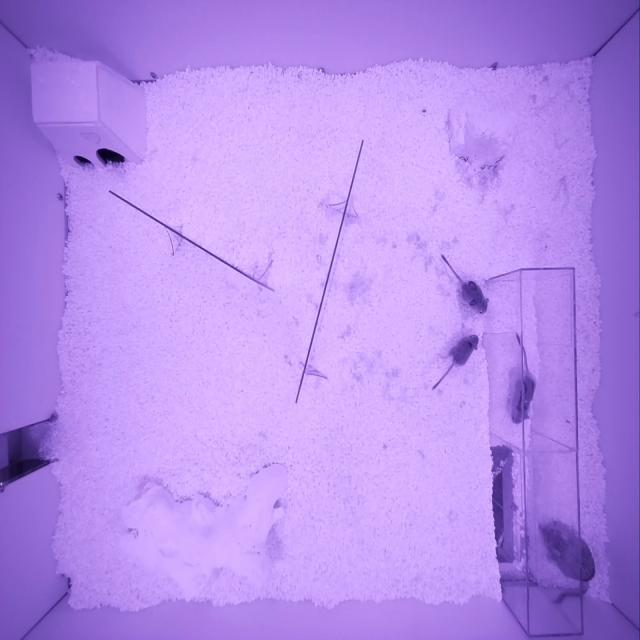adult_back: (539, 520, 596, 581)
pup_fluffy: (450, 333, 479, 367)
pup_spotted: (459, 280, 489, 314)
pup_v_stripe: (510, 373, 536, 424)
